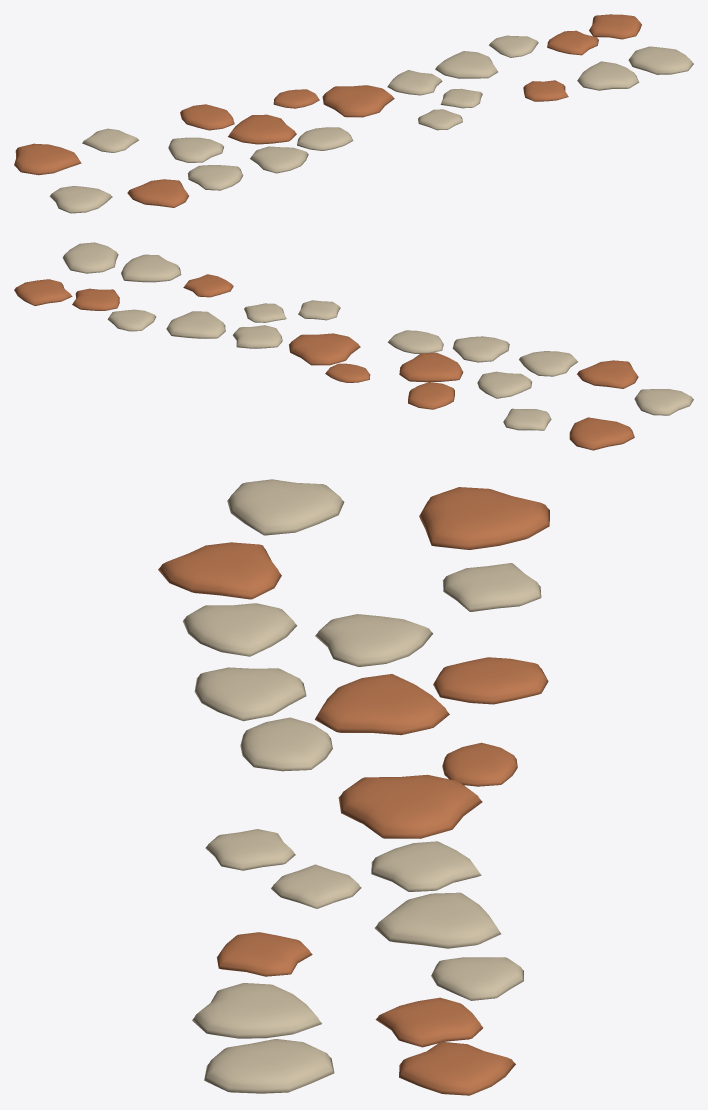
The model's file is sh_pebble_path.fbx.
3 views of the same model, one above another, from view 1: azimuth 30°, elevation 25°; view 2: azimuth 150°, elevation 25°; view 3: azimuth 270°, elevation 25° (orthographic). The views are drawn at different scales.
Visible parts, largest first — view 1: SH_Pebble_Path; view 2: SH_Pebble_Path; view 3: SH_Pebble_Path.
Part boxes in pixels (left/top/right/bottom): SH_Pebble_Path: left=14, top=14, right=693, bottom=213; SH_Pebble_Path: left=14, top=242, right=693, bottom=450; SH_Pebble_Path: left=158, top=479, right=549, bottom=1095.
Size of the model in its own units: 107 by 1.77 by 29.04.
